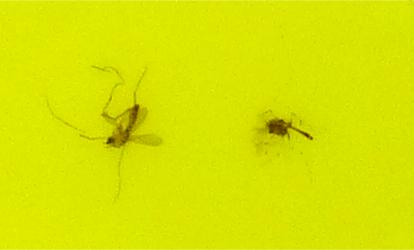Nematocera: (100, 100, 146, 150), (258, 115, 314, 142)
